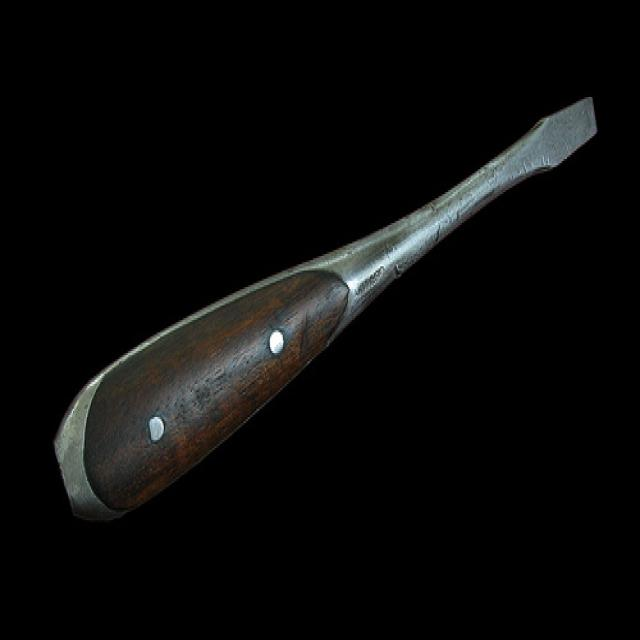screw_driver: (52, 97, 598, 529)
